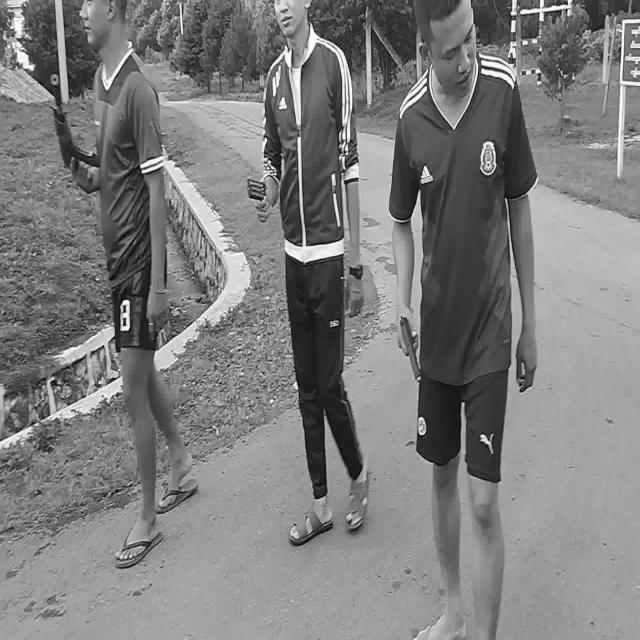gun: (50, 78, 101, 181), (402, 316, 421, 378)
